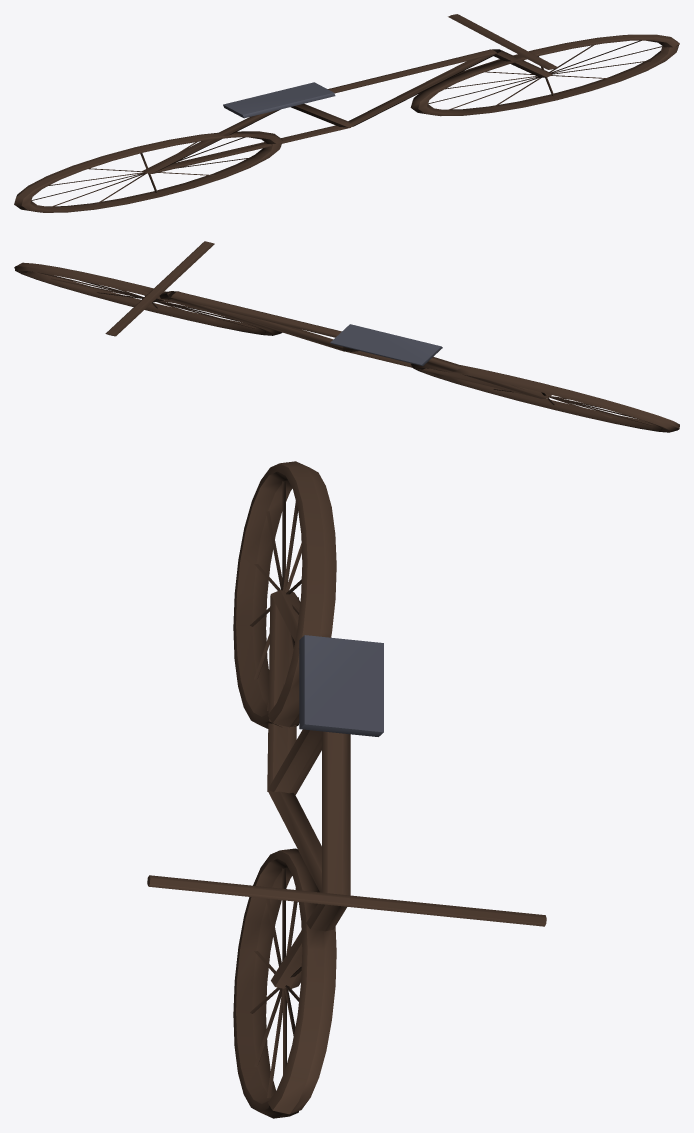
The model's file is prop.bicycle.mo.glb.
The picture shows the model from 3 angles, top to bottom: view 1: azimuth 30°, elevation 25°; view 2: azimuth 150°, elevation 25°; view 3: azimuth 270°, elevation 25°; orthographic projection. The views are drawn at different scales.
Parts seen in each view (by area): view 1: LOD0; view 2: LOD0; view 3: LOD0.
Part boxes in pixels (x1,y1,x2,y2): LOD0: (14,14,679,212); LOD0: (14,241,679,432); LOD0: (147,461,546,1118).
Size of what is drawn, in the model's own units: 1.74 by 0.1403 by 0.4535.
